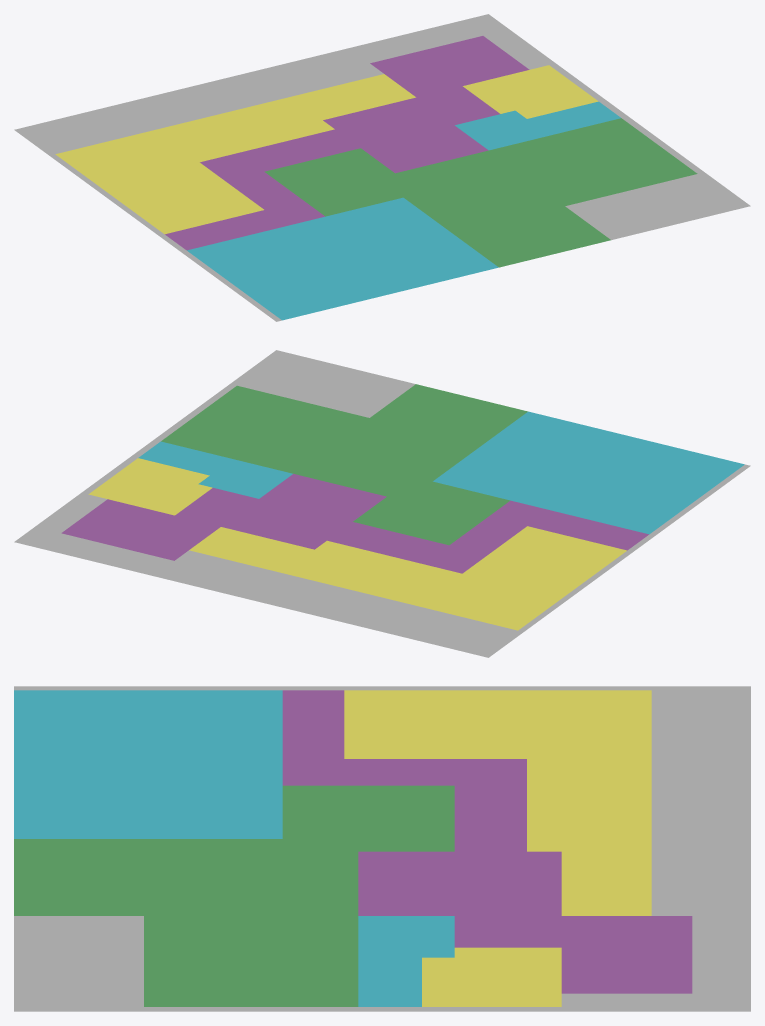
File: Floor.fbx
3 views of the same model, one above another, from view 1: azimuth 30°, elevation 25°; view 2: azimuth 150°, elevation 25°; view 3: azimuth 270°, elevation 25° (orthographic). The views are drawn at different scales.
Parts seen in each view (by area): view 1: pPlane2; view 2: pPlane2; view 3: pPlane2.
Boxes of the visible parts, x1,y1,x2,y2 form: pPlane2: [14, 14, 750, 321]; pPlane2: [14, 350, 750, 657]; pPlane2: [14, 686, 750, 1011].
Size of the model in its own units: 118 by 1.84e-05 by 113.
